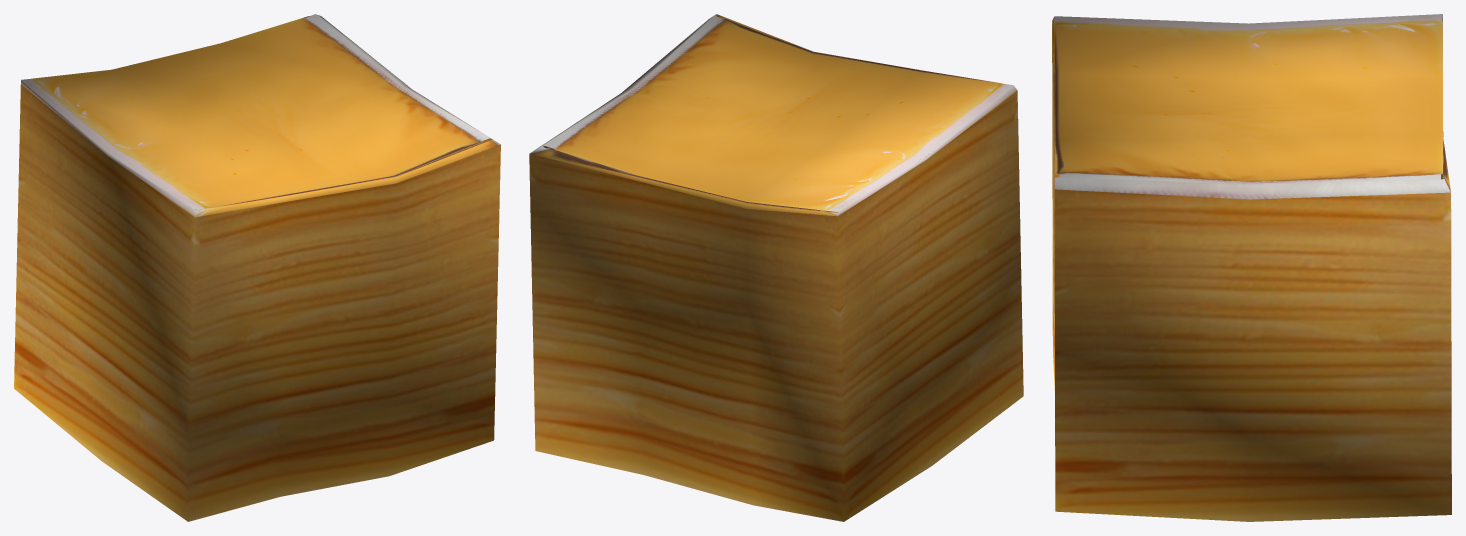
Rendered from CheesePile.fbx.
The picture shows the model from 3 angles, left to right: view 1: azimuth 30°, elevation 25°; view 2: azimuth 150°, elevation 25°; view 3: azimuth 270°, elevation 25°; orthographic projection. The views are drawn at different scales.
Parts seen in each view (by area): view 1: cheesepile; view 2: cheesepile; view 3: cheesepile.
Part boxes in pixels (x1=…): cheesepile: x1=14, y1=14, x2=500, y2=521; cheesepile: x1=529, y1=14, x2=1023, y2=521; cheesepile: x1=1052, y1=14, x2=1451, y2=521.
Bounding box in the file's own units: 16.6 × 16 × 16.59.
